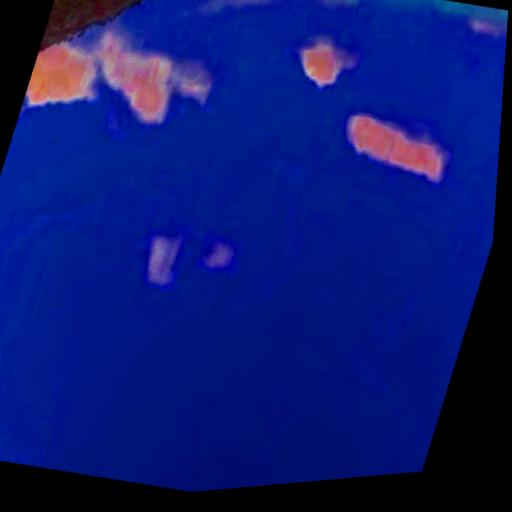drones: (42, 131, 64, 153)
